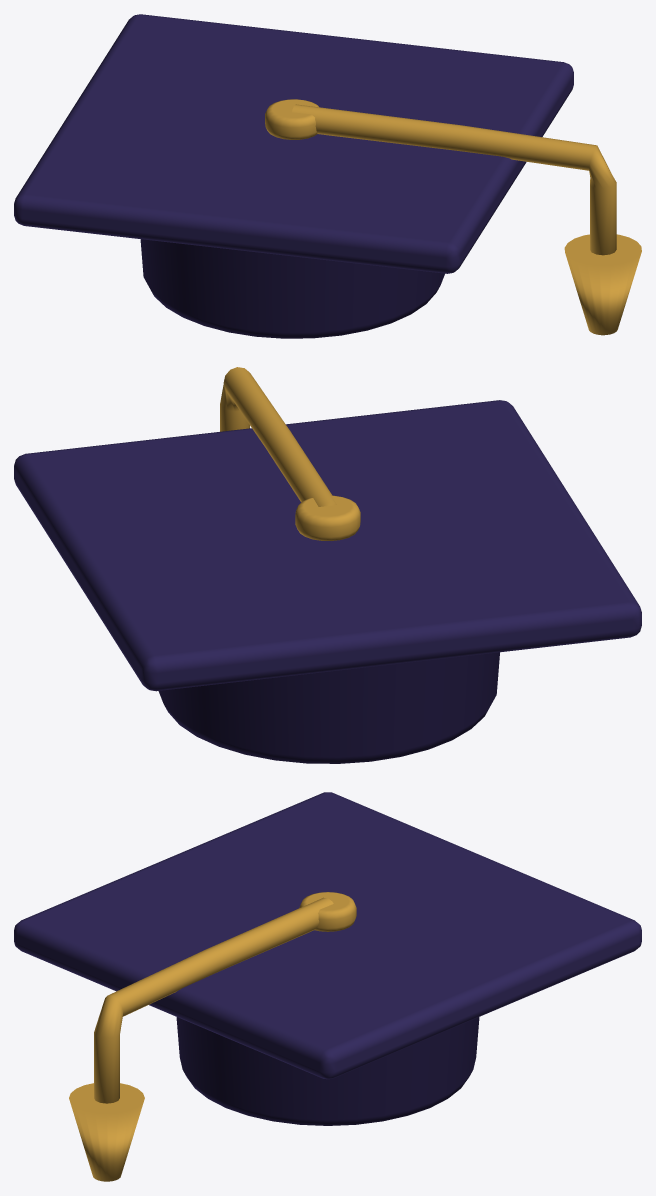
Rendered from icon_cap.glb.
The picture shows the model from 3 angles, top to bottom: view 1: azimuth 30°, elevation 25°; view 2: azimuth 150°, elevation 25°; view 3: azimuth 270°, elevation 25°; orthographic projection. The views are drawn at different scales.
Visible parts, largest first — view 1: icon_cap; view 2: icon_cap; view 3: icon_cap.
Boxes of the visible parts, left/top/right/bottom form: icon_cap: left=14, top=14, right=641, bottom=338; icon_cap: left=14, top=367, right=641, bottom=763; icon_cap: left=14, top=792, right=641, bottom=1181.
Bounding box in the file's own units: 2.64 × 0.855 × 2.64.
